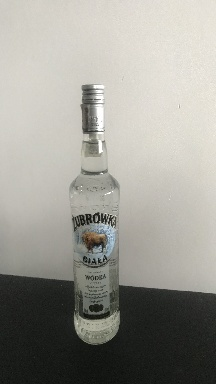butelka: (67, 81, 121, 348)
